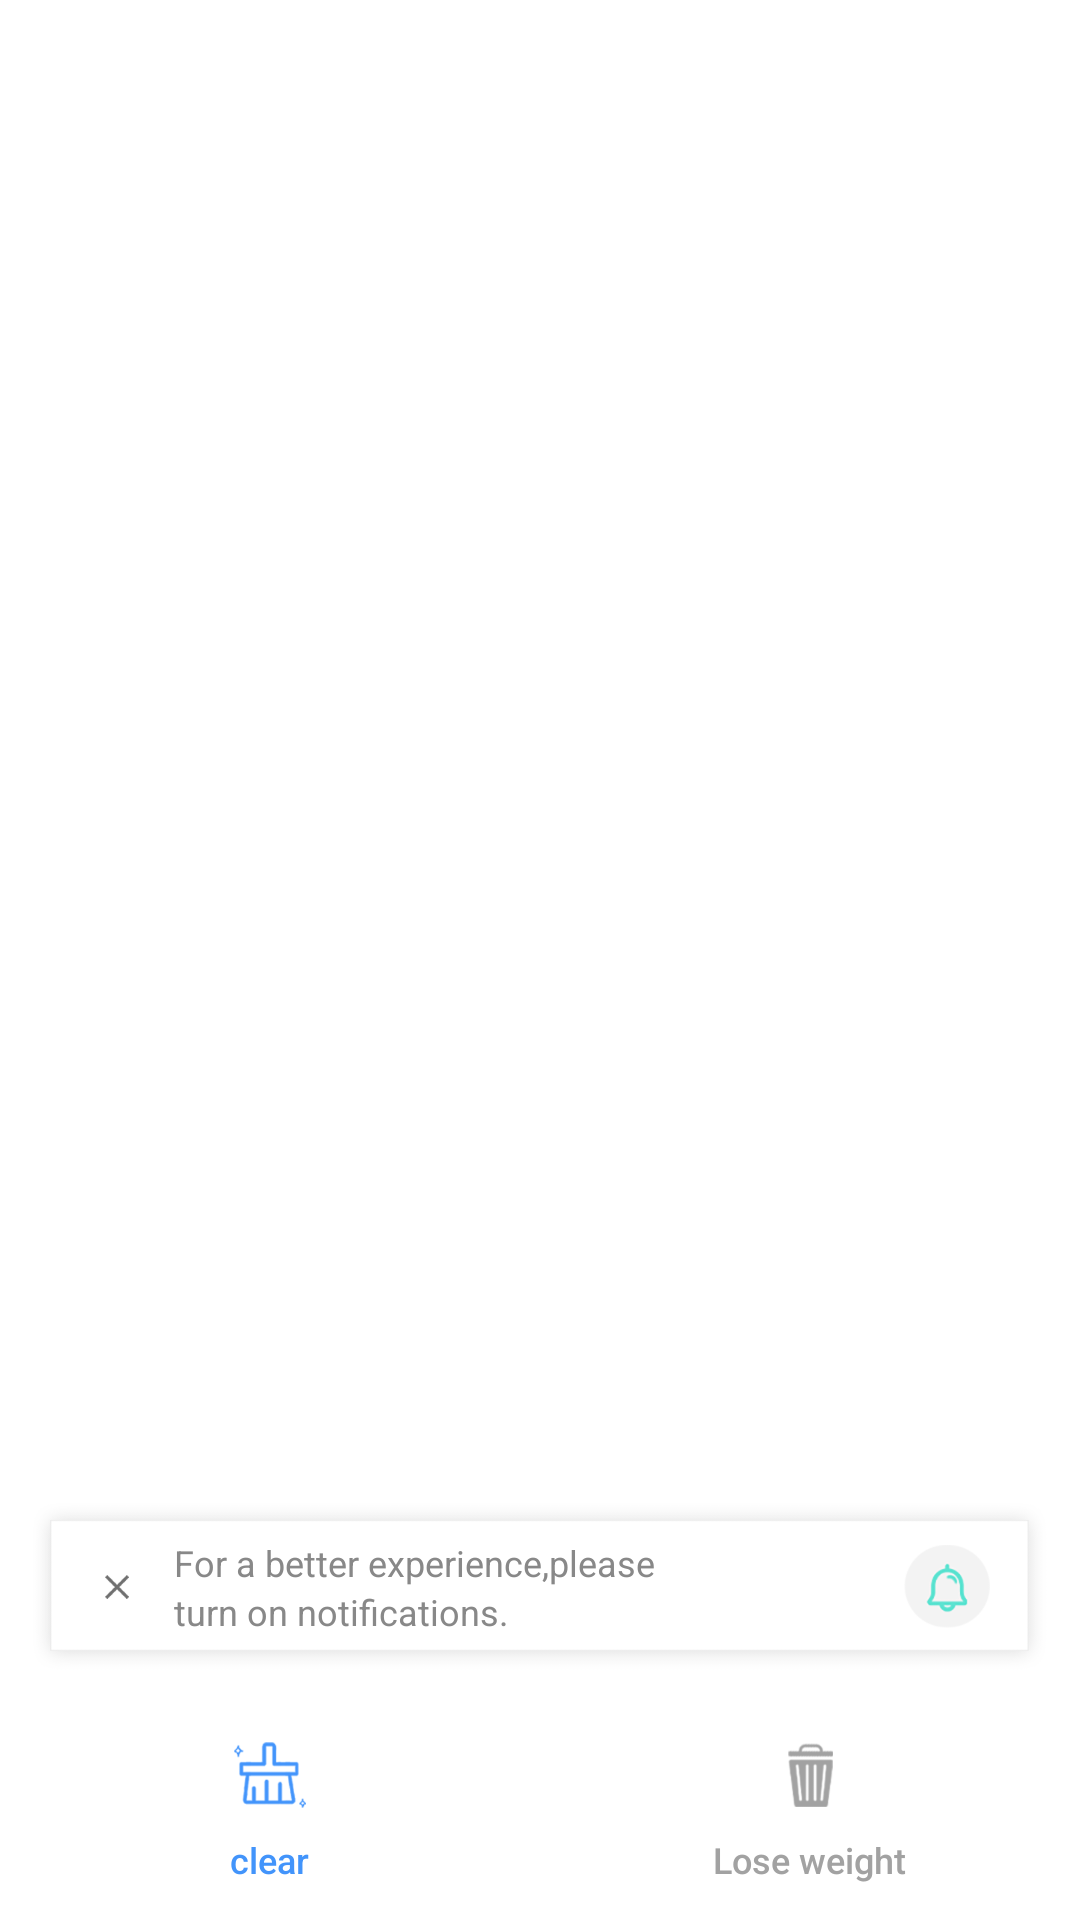

Icon click points for this 1080w x 1920h phone screenshot, format (x,y):
clear notif tip: (117,1587)
notification: (947,1586)
